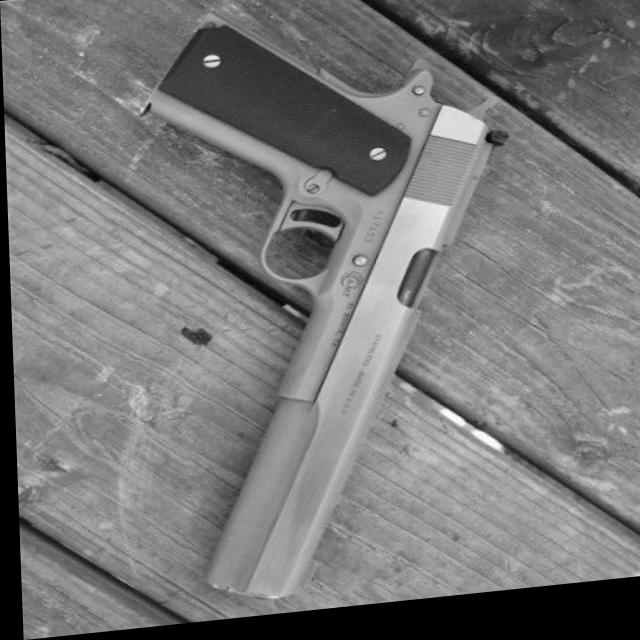handgun: (129, 0, 522, 613)
